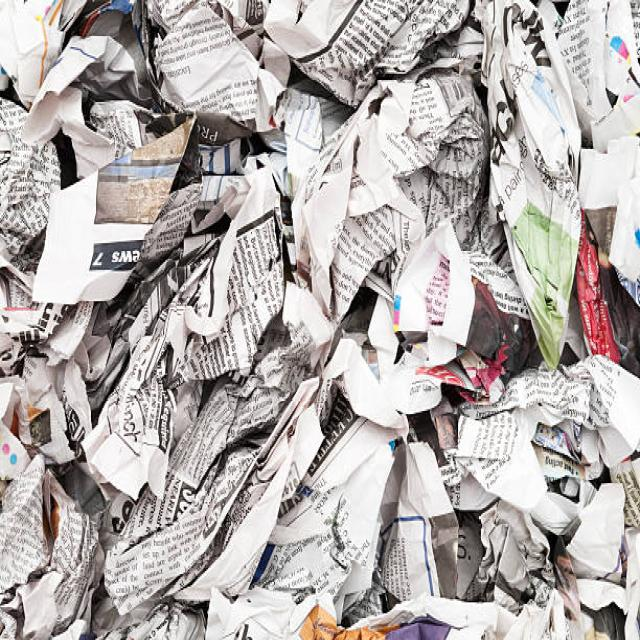paper: (45, 92, 538, 640)
